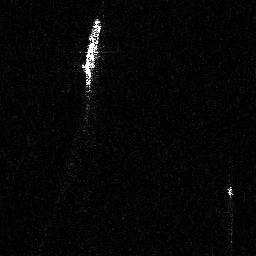ship: (78, 15, 103, 111)
